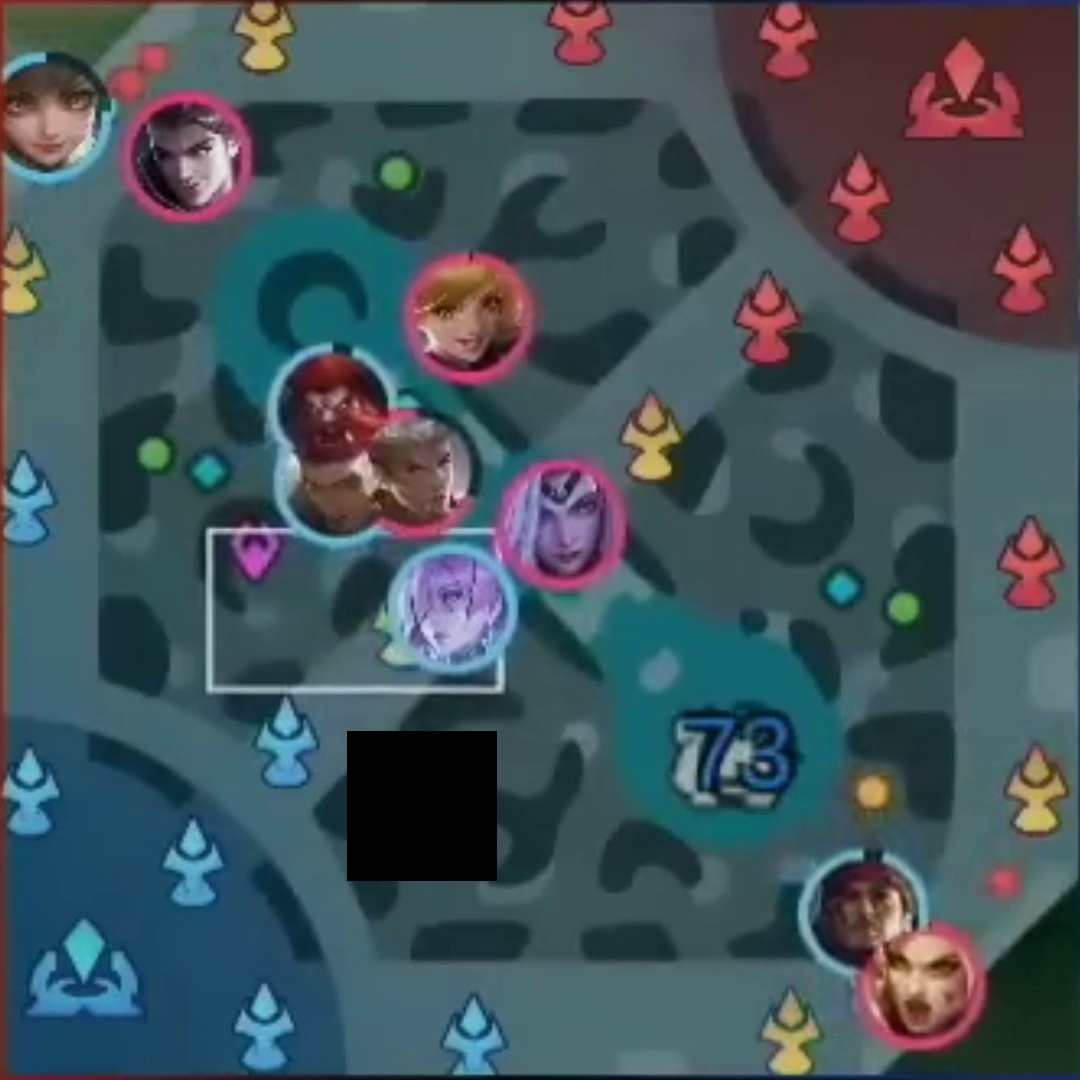Chou: (382, 428, 456, 518)
Claude: (143, 117, 227, 200)
Fanny: (426, 271, 507, 368)
Fredrinn: (302, 463, 373, 536)
Lapu-Lapu: (822, 867, 902, 943)
Masha: (889, 949, 958, 1027)
Minotaur: (293, 371, 369, 456)
Novaria: (408, 564, 499, 651)
Valentina: (516, 478, 600, 568)
Wanwan: (7, 65, 90, 166)
